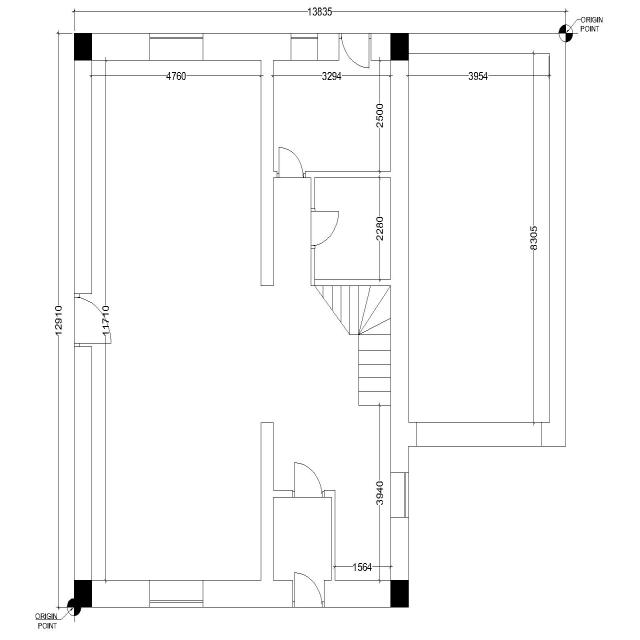Column: (390, 34, 409, 61), (74, 33, 92, 61), (74, 580, 92, 607), (391, 580, 408, 608)
Door: (73, 292, 112, 348), (338, 32, 372, 70), (310, 208, 340, 250), (292, 461, 326, 498), (292, 571, 326, 608), (276, 146, 306, 180)
Staircase: (309, 284, 392, 408)
Window: (148, 31, 204, 62), (149, 580, 204, 608), (390, 472, 410, 519), (290, 32, 318, 62)
